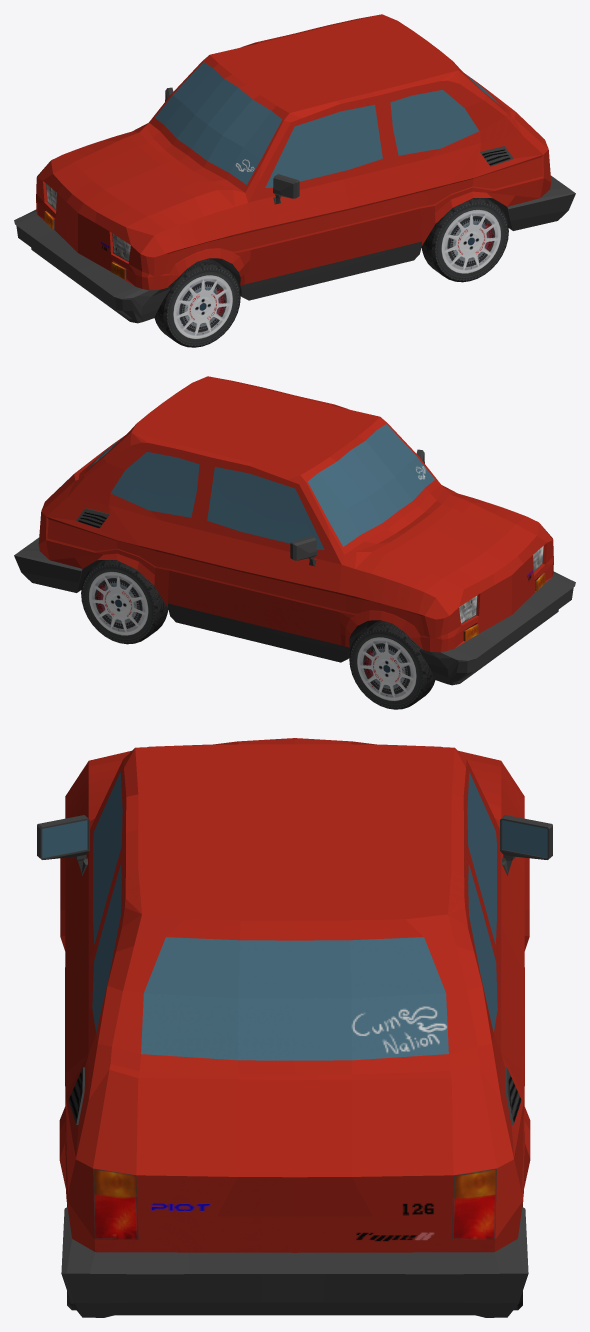
The picture shows the model from 3 angles, top to bottom: view 1: azimuth 30°, elevation 25°; view 2: azimuth 150°, elevation 25°; view 3: azimuth 270°, elevation 25°; orthographic projection. The views are drawn at different scales.
Visible parts, largest first — view 1: the car, wels; view 2: the car, wels; view 3: the car.
Part boxes in pixels (box(x1,y1,x2,y2)): the car: box(14, 14, 575, 323); wels: box(154, 198, 508, 347); the car: box(14, 376, 575, 685); wels: box(81, 560, 435, 709); the car: box(37, 738, 552, 1317).
Size of the model in its own units: 4.58 by 1.9 by 2.26.
Materials: 3 (3 with a texture image).
